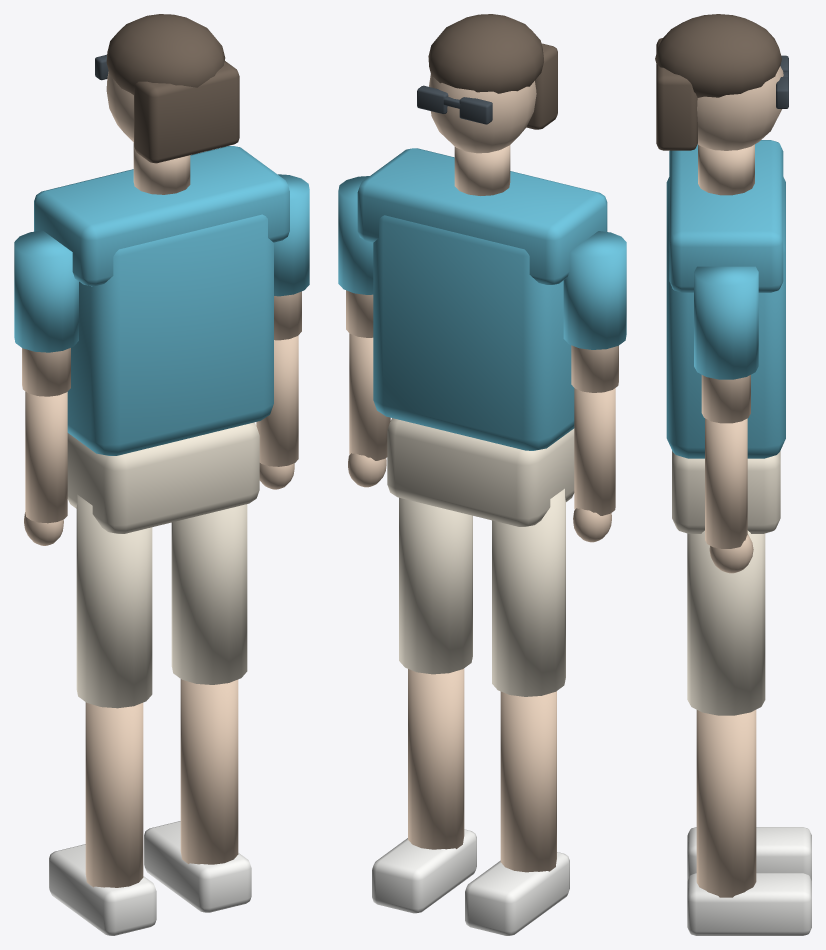
The model's file is Char_Humanoid.fbx.
3 renders of one model, left to right at view 1: azimuth 30°, elevation 25°; view 2: azimuth 150°, elevation 25°; view 3: azimuth 270°, elevation 25°, orthographic. The views are drawn at different scales.
Visible parts, largest first — view 1: Torso_Mesh, Shoulder_Pad, Pelvis_Mesh, Thigh_L, Thigh_R, Calf_L, Calf_R, Hair_Back, Sleeve_L, Hair_Top, LowerArm_L, Shoe_L (+9 smaller); view 2: Torso_Mesh, Shoulder_Pad, Pelvis_Mesh, Thigh_L, Thigh_R, Calf_L, Calf_R, Hair_Top, Sleeve_L, Shoe_R, Shoe_L, LowerArm_L (+11 smaller); view 3: Thigh_R, Shoulder_Pad, Torso_Mesh, Calf_R, Hair_Top, Sleeve_R, Shoe_R, LowerArm_R, Pelvis_Mesh, Head_Mesh, Hair_Back, Shoe_L (+4 smaller).
Boxes of the visible parts, x1,y1,x2,y2 form: Torso_Mesh: (67,214,273,455); Shoulder_Pad: (34,146,289,286); Pelvis_Mesh: (67,422,259,533); Thigh_L: (76,494,152,708); Thigh_R: (171,504,247,684); Calf_L: (85,702,143,887); Calf_R: (180,679,238,864); Hair_Back: (134,61,239,163); Sleeve_L: (14,230,78,352); Hair_Top: (106,14,225,94); LowerArm_L: (25,391,67,523); Shoe_L: (49,844,156,935); Torso_Mesh: (373,215,574,450); Shoulder_Pad: (357,148,607,285); Pelvis_Mesh: (387,418,574,526); Thigh_L: (492,488,565,696); Thigh_R: (399,497,472,674); Calf_L: (500,691,556,872); Calf_R: (408,668,464,849); Hair_Top: (428,14,543,93); Sleeve_L: (563,231,626,349); Shoe_R: (372,829,476,913); Shoe_L: (465,852,569,935); LowerArm_L: (574,388,615,515); Thigh_R: (687,530,765,715); Shoulder_Pad: (669,140,783,292); Torso_Mesh: (666,177,785,458); Calf_R: (696,710,756,897); Hair_Top: (655,14,781,97); Sleeve_R: (694,266,758,379); Shoe_R: (687,873,811,935); LowerArm_R: (705,418,747,548); Pelvis_Mesh: (672,450,780,533); Head_Mesh: (697,66,783,150); Hair_Back: (656,38,697,150); Shoe_L: (687,827,811,880).
Size of the model in its own units: 0.6319 by 1.88 by 0.3025.
